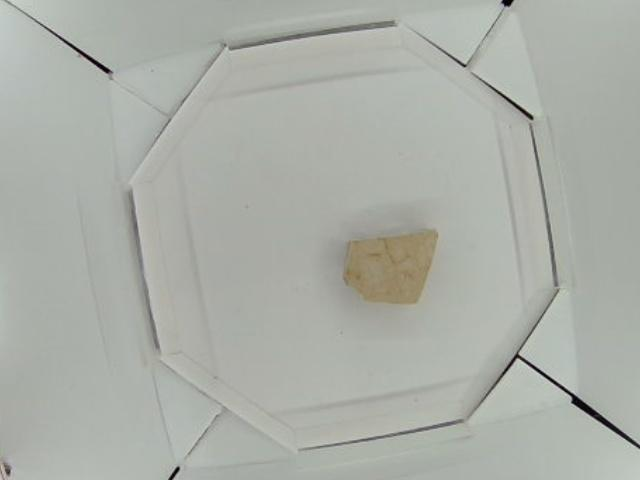China: (347, 228, 441, 306)
